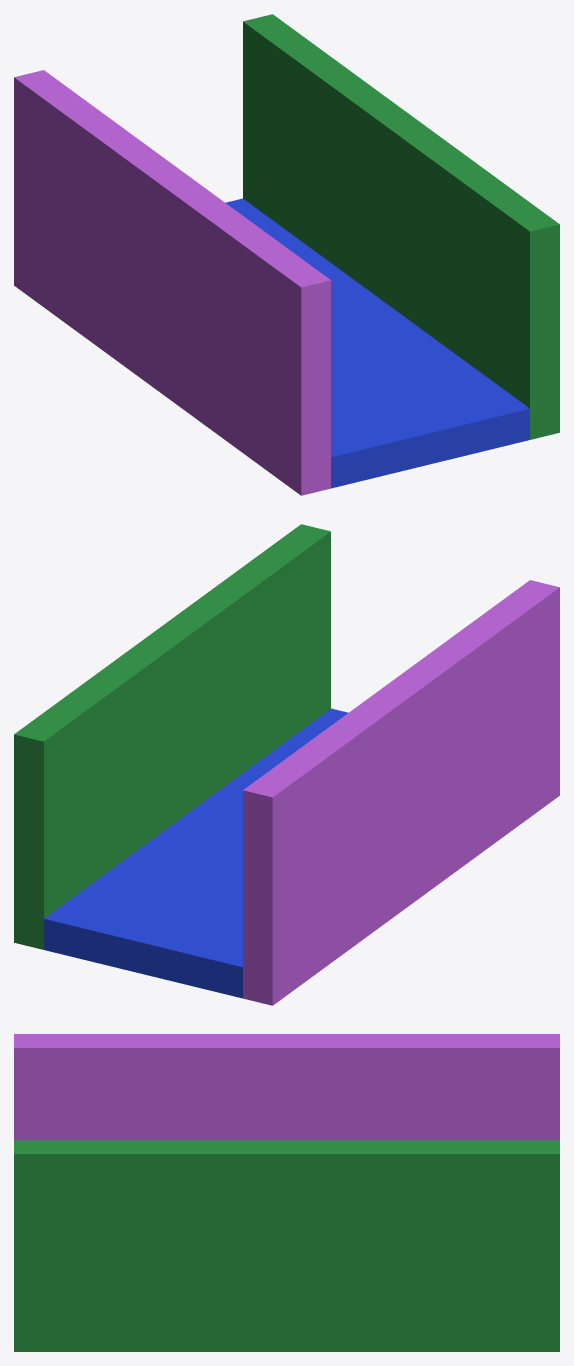
3 views of the same model, one above another, from view 1: azimuth 30°, elevation 25°; view 2: azimuth 150°, elevation 25°; view 3: azimuth 270°, elevation 25° (orthographic). The views are drawn at different scales.
Parts seen in each view (by area): view 1: Cube.002, Cube.001, Cube; view 2: Cube.002, Cube.001, Cube; view 3: Cube.001, Cube.002.
Part boxes in pixels (x1,y1,x2,y2): Cube.002: (14,70,330,495); Cube.001: (243,14,559,439); Cube: (225,198,529,488); Cube.002: (243,580,559,1005); Cube.001: (14,524,330,949); Cube: (44,708,348,998); Cube.001: (14,1140,559,1351); Cube.002: (14,1034,559,1140).
Bounding box in the file's own units: 2.6 × 2 × 5.
